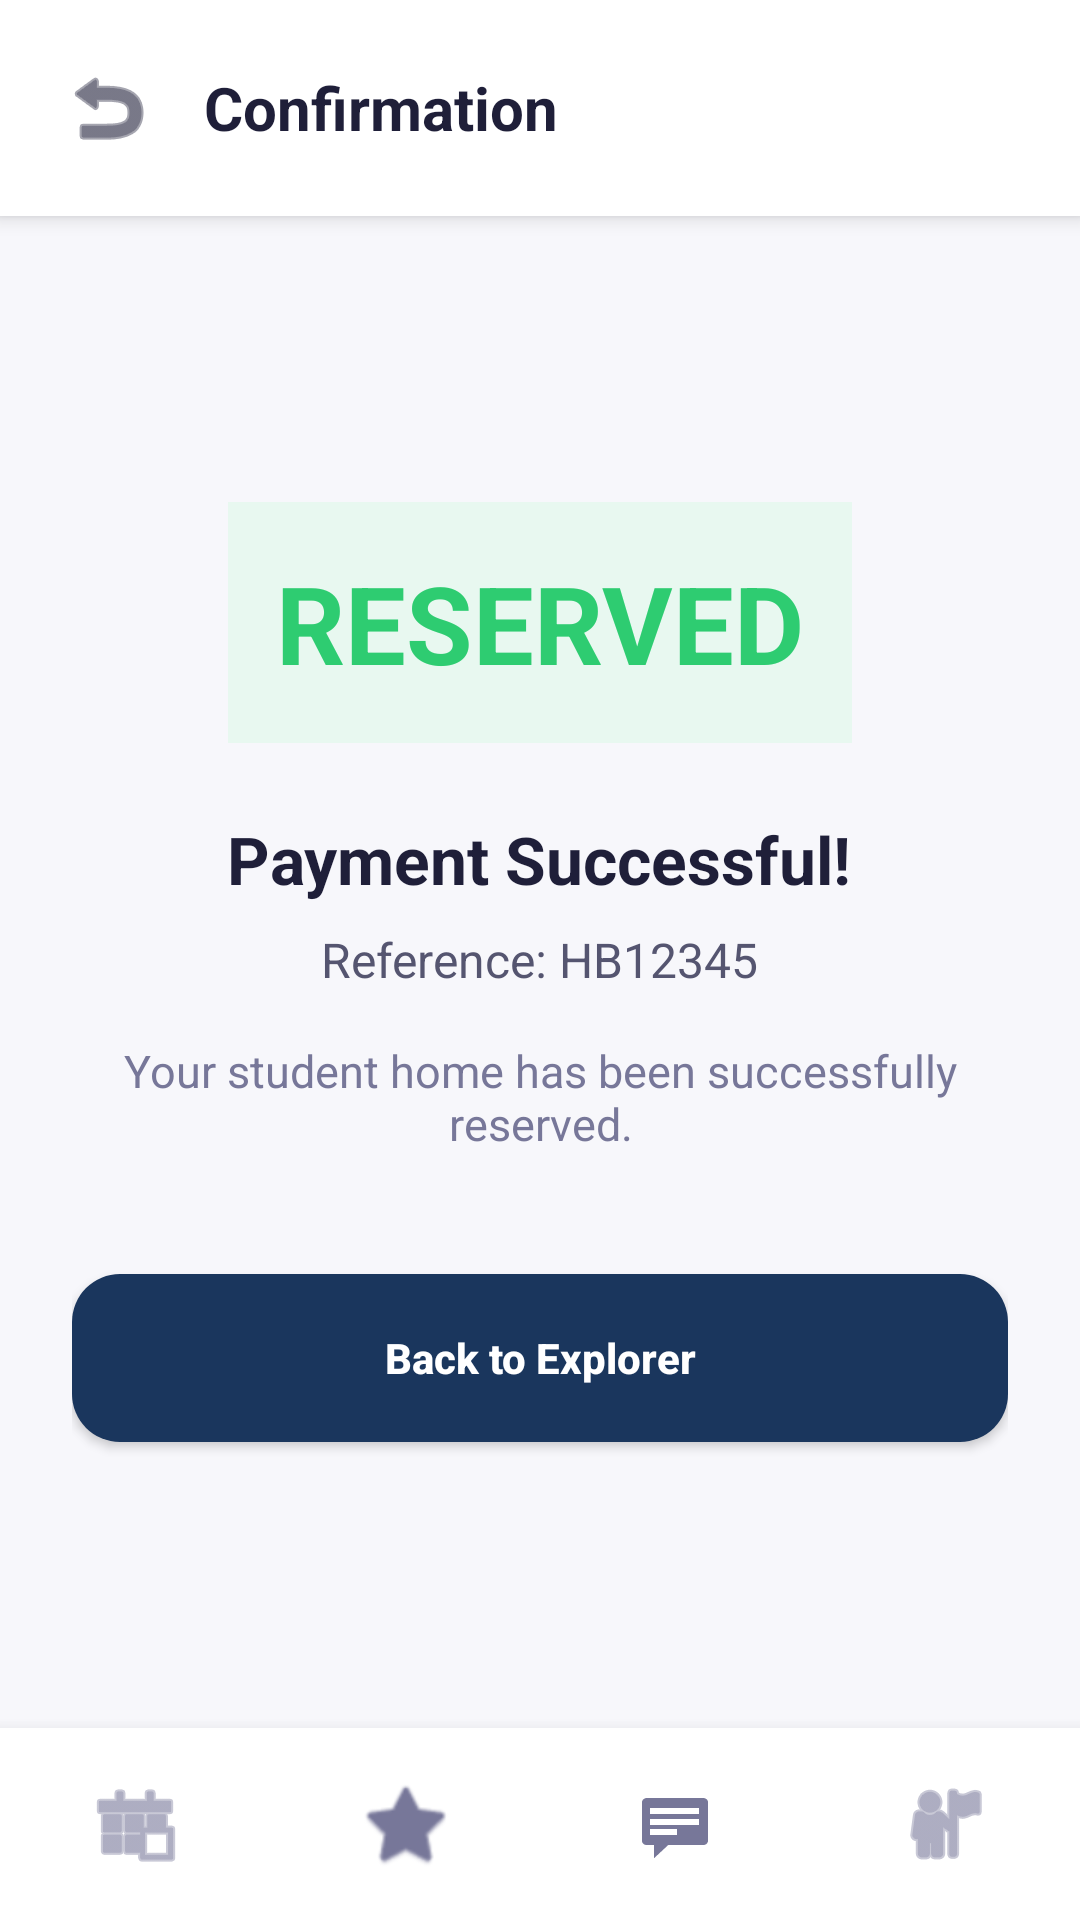

Point at icon controls on the screen. Image size 1080*1920, points as (x,y).
Back: (109,108)
Chat: (675,1828)
Saved: (406,1824)
